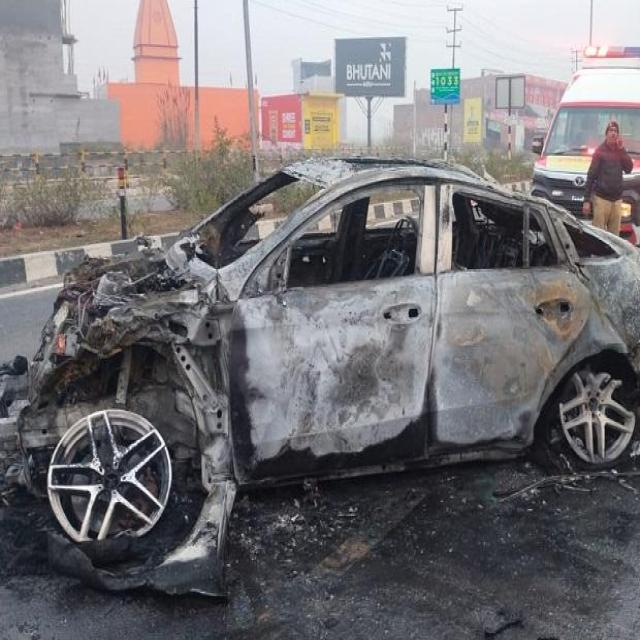accident: (18, 157, 640, 594)
